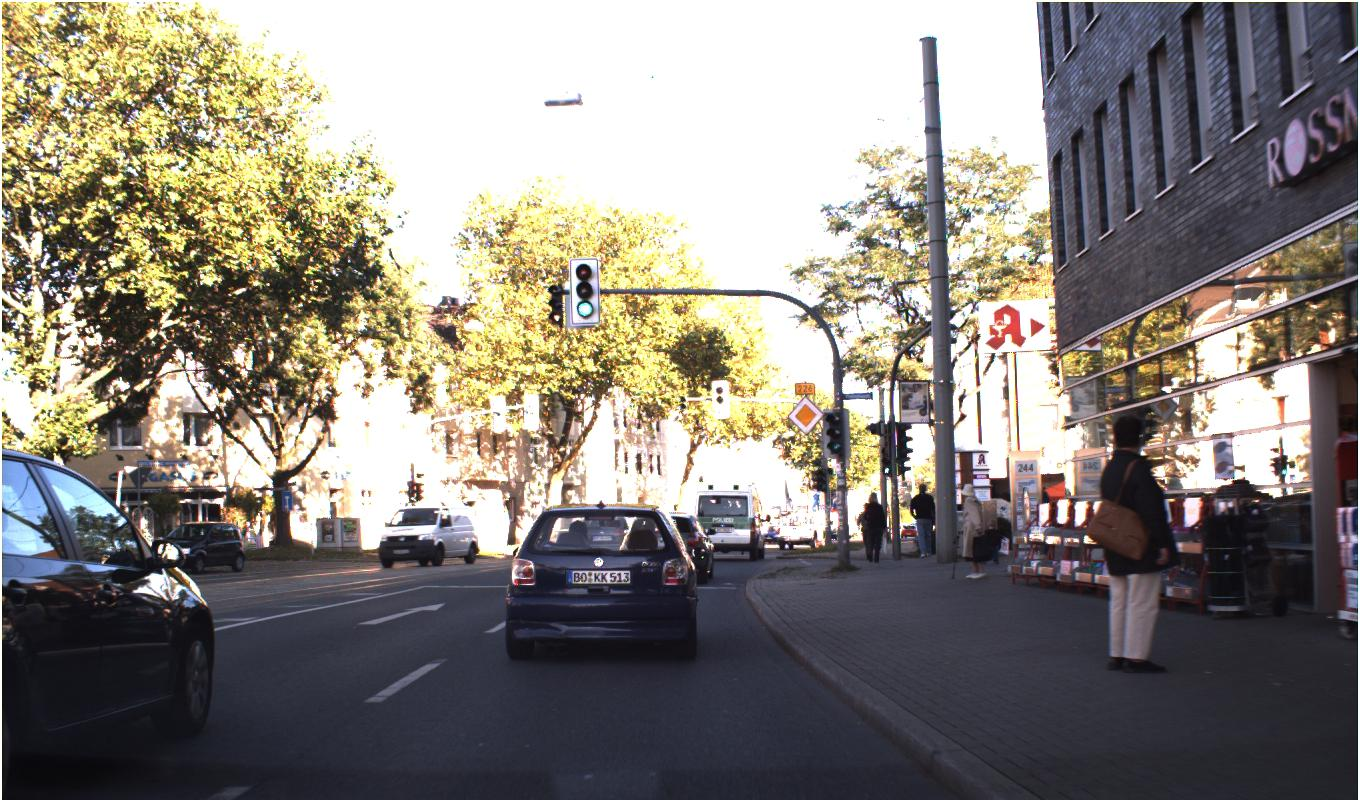sign: (786, 394, 824, 435)
